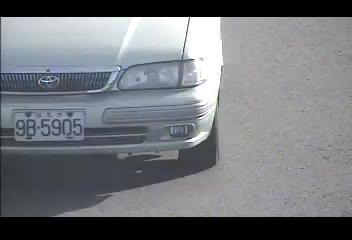plate: (12, 111, 86, 143)
